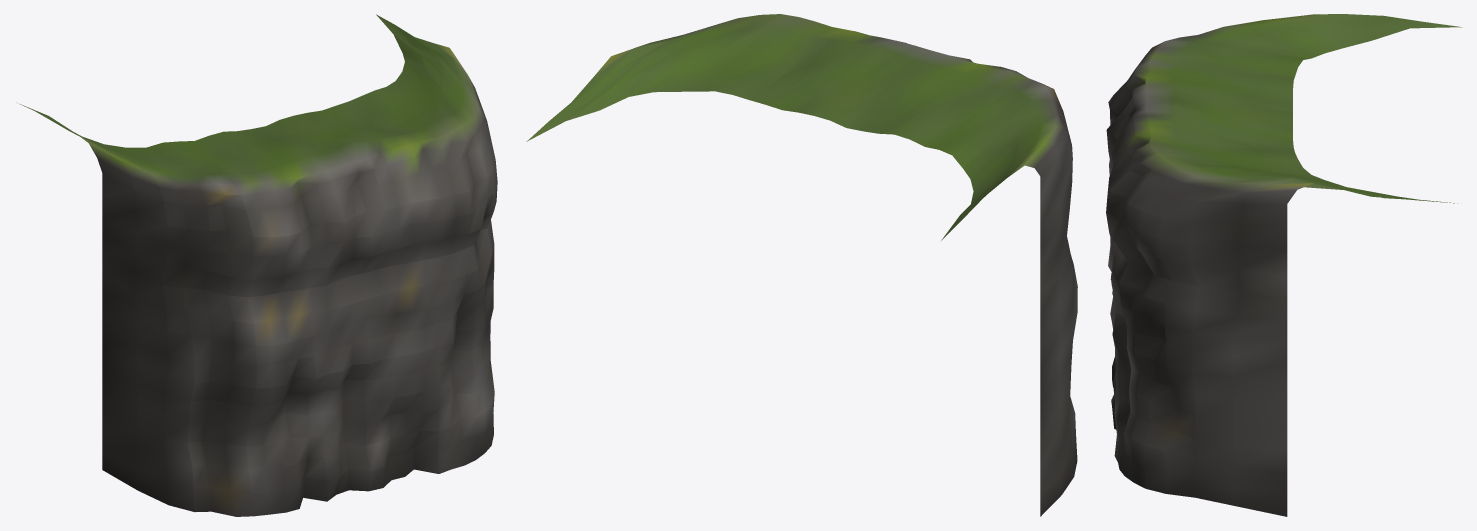
Rendered from cliff-face-b.lod1.glb.
The picture shows the model from 3 angles, left to right: view 1: azimuth 30°, elevation 25°; view 2: azimuth 150°, elevation 25°; view 3: azimuth 270°, elevation 25°; orthographic projection. The views are drawn at different scales.
Bounding box in the file's own units: 7.36 × 6.51 × 6.3.
